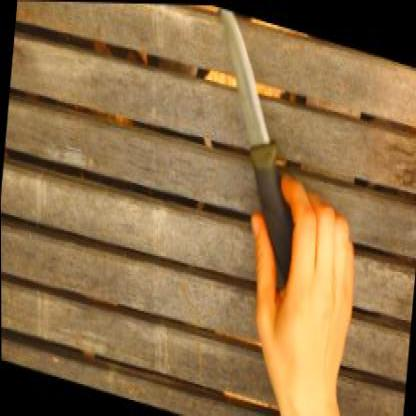knife: (191, 4, 339, 296)
